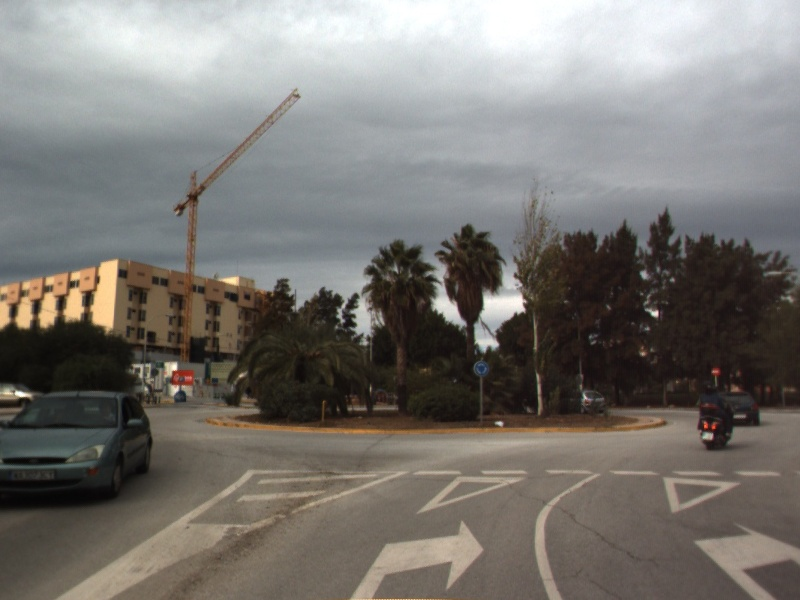RIGHT: (347, 514, 487, 600), (689, 517, 800, 600)
